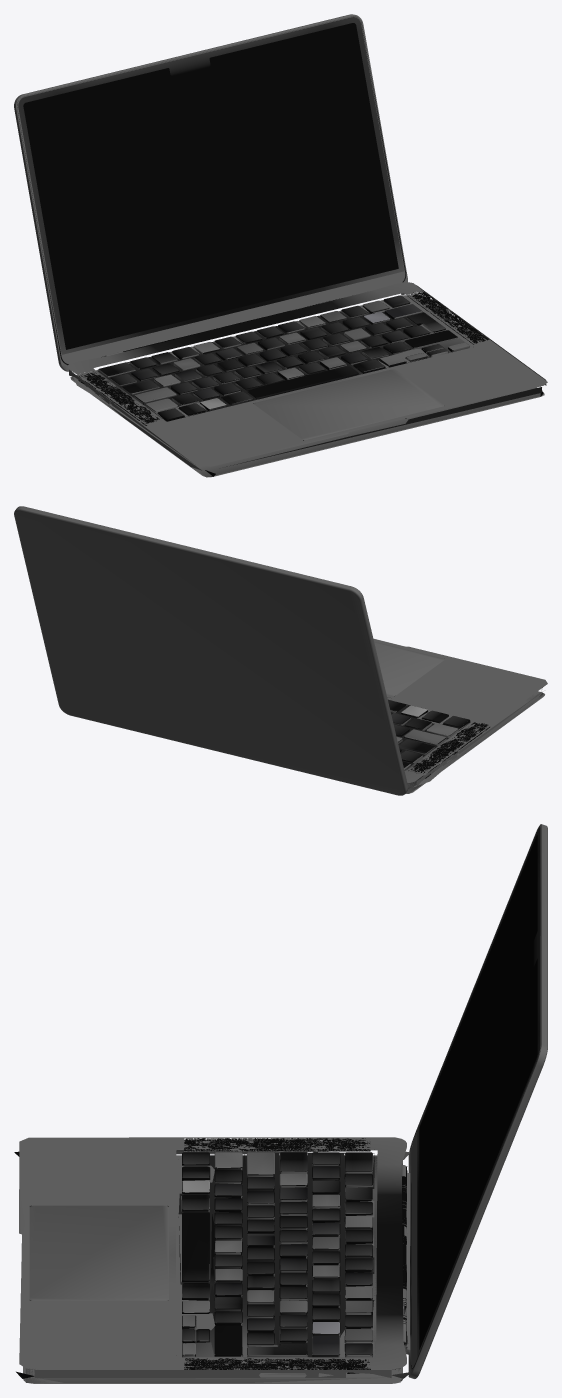
File: mitooshi.glb
The picture shows the model from 3 angles, top to bottom: view 1: azimuth 30°, elevation 25°; view 2: azimuth 150°, elevation 25°; view 3: azimuth 270°, elevation 25°; orthographic projection. The views are drawn at different scales.
Parts seen in each view (by area): view 1: screen, laptop; view 2: laptop; view 3: laptop, screen.
Boxes of the visible parts, bbox=[...] form: screen: bbox=[23, 23, 398, 349]; laptop: bbox=[14, 14, 547, 477]; laptop: bbox=[14, 506, 547, 795]; laptop: bbox=[14, 824, 547, 1383]; screen: bbox=[419, 835, 537, 1349].
Bounding box in the file's own units: 0.3152 × 0.2125 × 0.3035.
Materials: 2 (1 with a texture image).
